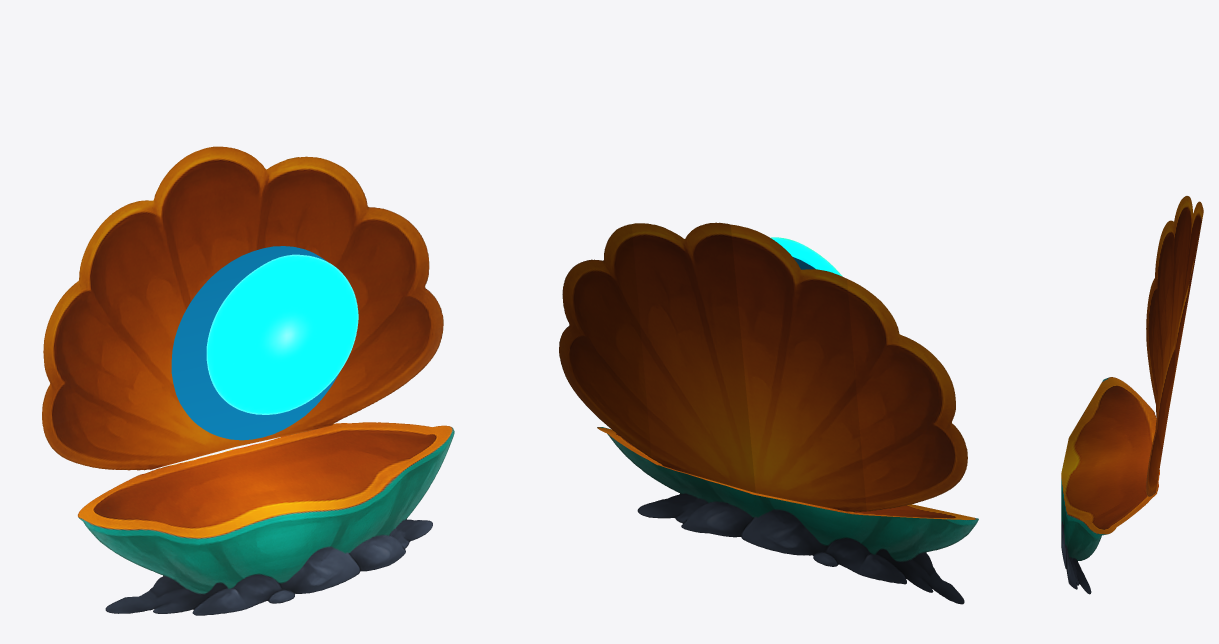
File: Primary_Opened.fbx
3 renders of one model, left to right at view 1: azimuth 30°, elevation 25°; view 2: azimuth 150°, elevation 25°; view 3: azimuth 270°, elevation 25°, orthographic. The views are drawn at different scales.
Parts seen in each view (by area): view 1: PrimaryOpened, PowerBall; view 2: PrimaryOpened, PowerBall; view 3: PrimaryOpened.
Boxes of the visible parts, x1,y1,x2,y2 form: PrimaryOpened: [42, 146, 454, 615]; PowerBall: [171, 246, 358, 440]; PrimaryOpened: [559, 222, 978, 604]; PowerBall: [770, 237, 842, 276]; PrimaryOpened: [1061, 196, 1203, 594].
Size of the model in its own units: 1.87 by 1.84 by 0.5536.
Materials: 2 (2 with a texture image).
